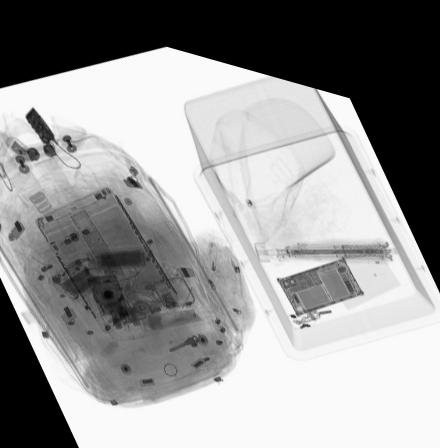Powerbank: (53, 258, 100, 296)
